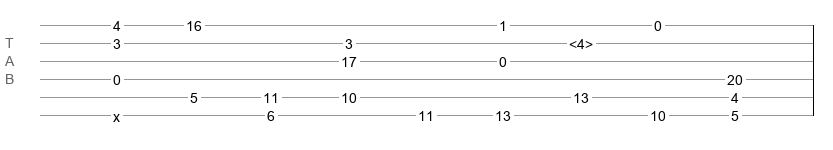0: (113, 72, 121, 82), (499, 54, 507, 64), (654, 18, 662, 28)
1: (499, 18, 507, 28)
10: (341, 90, 357, 100), (650, 108, 666, 118)
11: (263, 90, 279, 100), (418, 108, 434, 118)
13: (495, 108, 511, 118), (573, 90, 589, 100)
16: (186, 18, 202, 28)
17: (341, 54, 357, 64)
20: (727, 72, 743, 82)
3: (113, 36, 121, 46), (345, 36, 353, 46)
4: (113, 18, 121, 28), (731, 90, 739, 100)
5: (190, 90, 198, 100), (731, 108, 739, 118)
6: (267, 108, 275, 118)
harmonic: (569, 36, 593, 46)
x: (113, 109, 120, 117)
